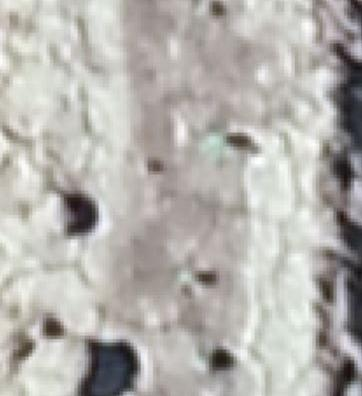cotton: (208, 134, 224, 155), (196, 349, 209, 361), (183, 274, 196, 283)
